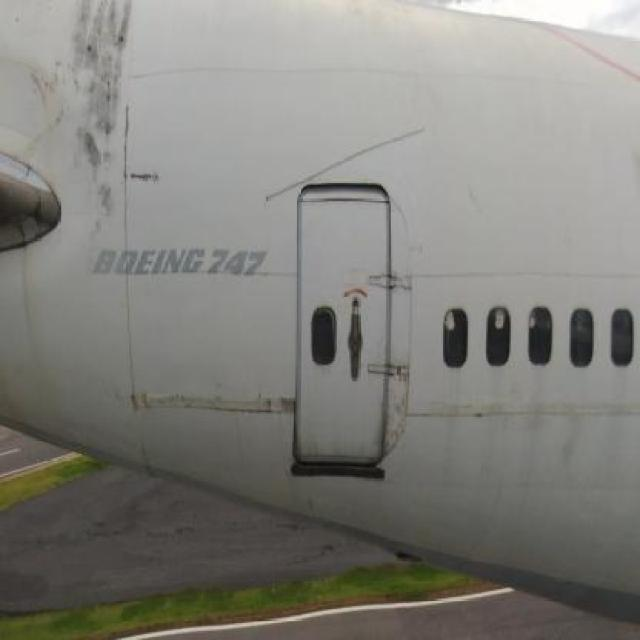Rust: (63, 1, 134, 245), (13, 55, 69, 163), (130, 386, 272, 425), (17, 239, 41, 352)
Scartch: (520, 388, 608, 480), (386, 386, 416, 460), (462, 170, 489, 228), (124, 154, 165, 191), (279, 391, 298, 429)
